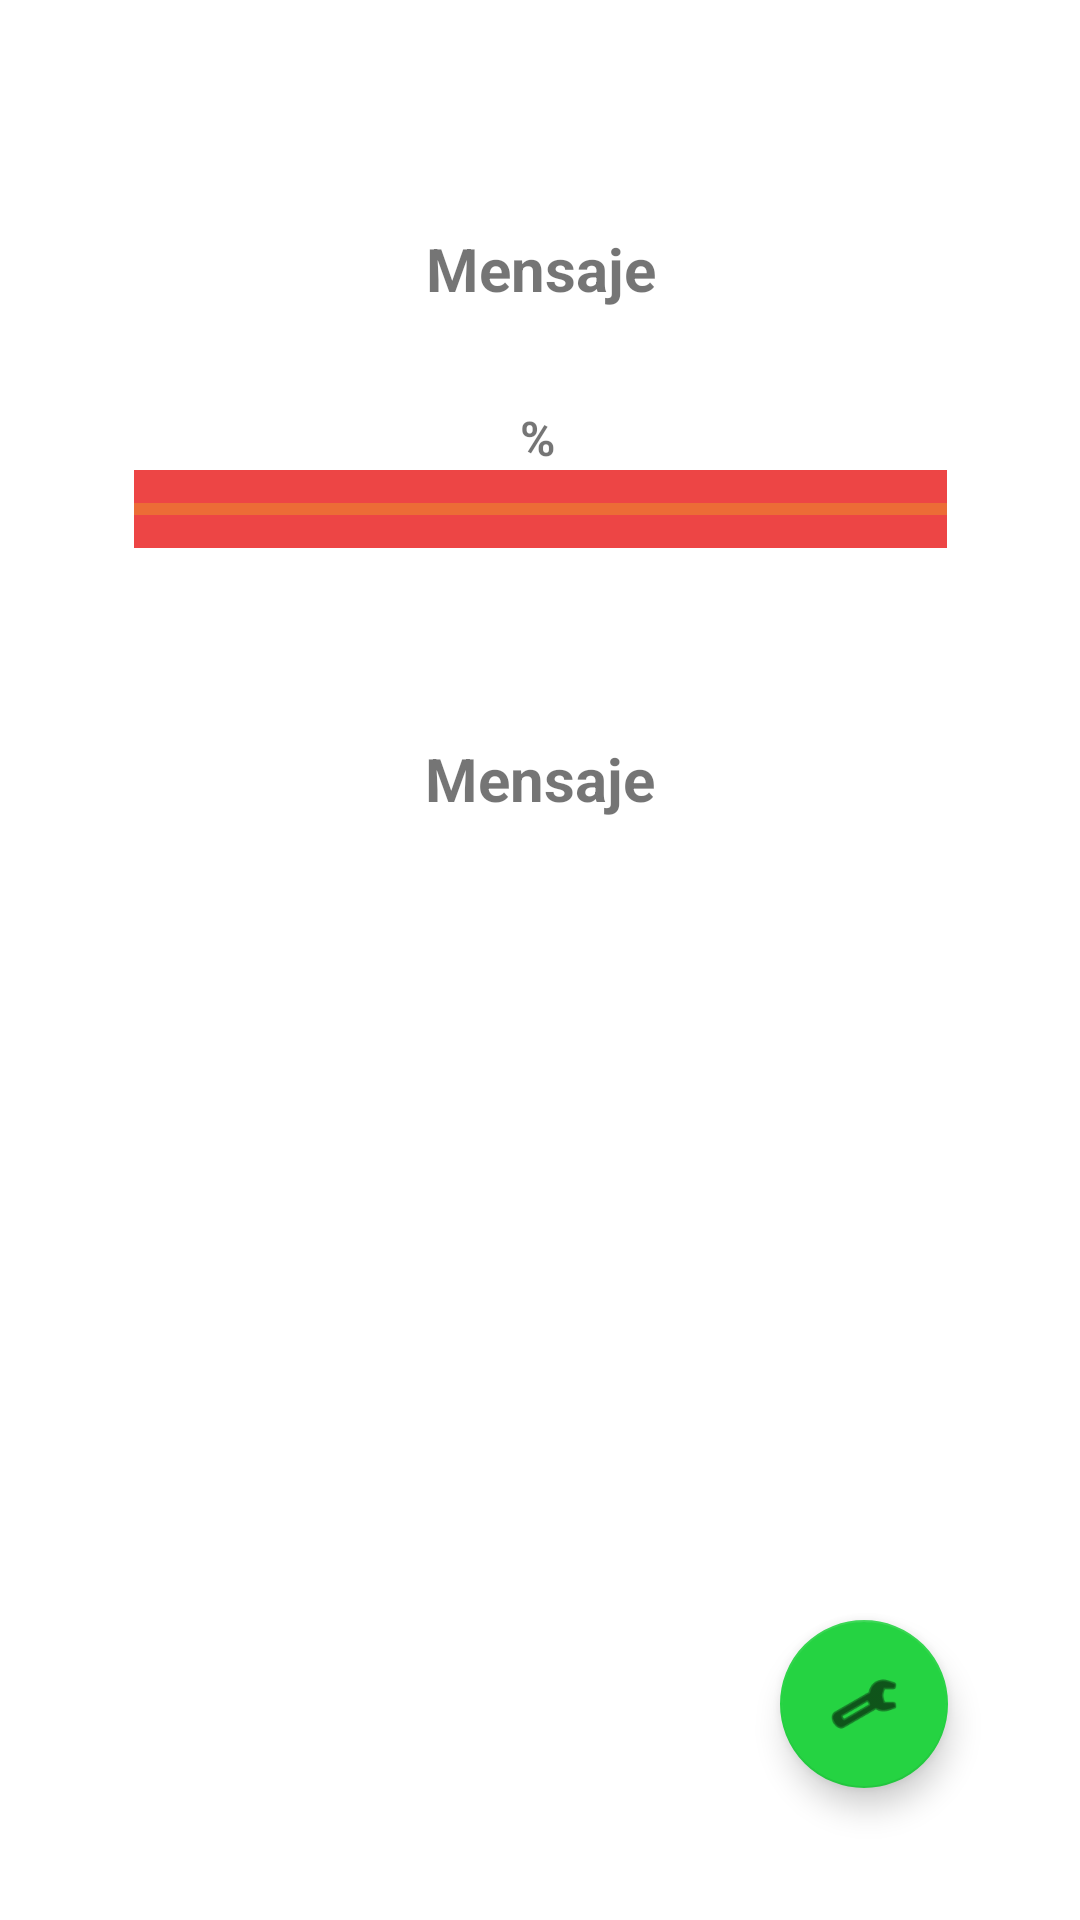

Point at icon controls on the screen. Image size 1080 × 1920, points as point (x, y).
manage: point (864, 1704)
